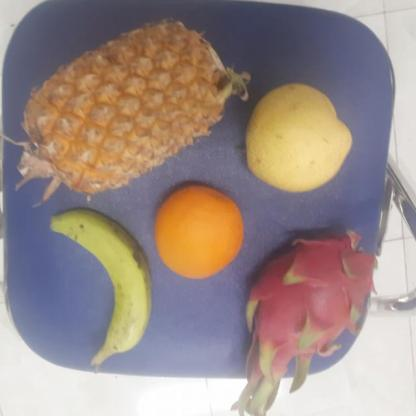banana: (57, 211, 150, 364)
orange: (151, 186, 244, 279)
pear: (239, 82, 353, 192)
pineapple: (6, 21, 229, 198)
pitaya: (236, 228, 375, 380)
